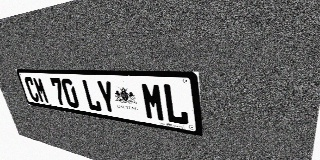0: (60, 78, 80, 109)
7: (49, 78, 68, 107)
C: (23, 76, 40, 102)
L: (162, 83, 189, 126), (81, 79, 102, 112)
M: (140, 82, 166, 122), (32, 77, 50, 104)
Y: (95, 80, 118, 115)
